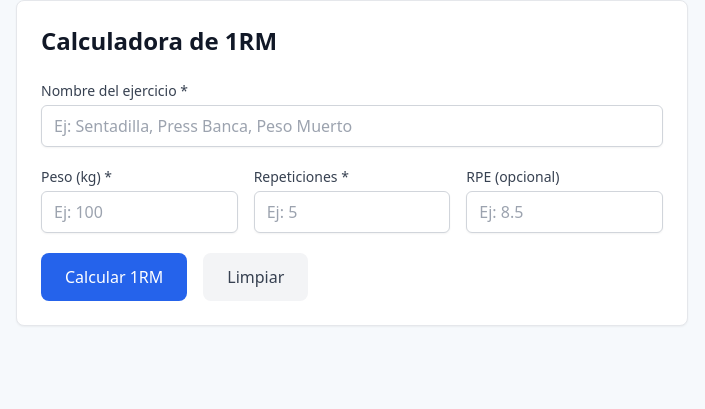
Test: OneRMCalculator › shows error when reps is not provided
Step 1. Type "100" into the number field labelled "Peso (kg) *" → (139, 212), box [41, 191, 238, 233]
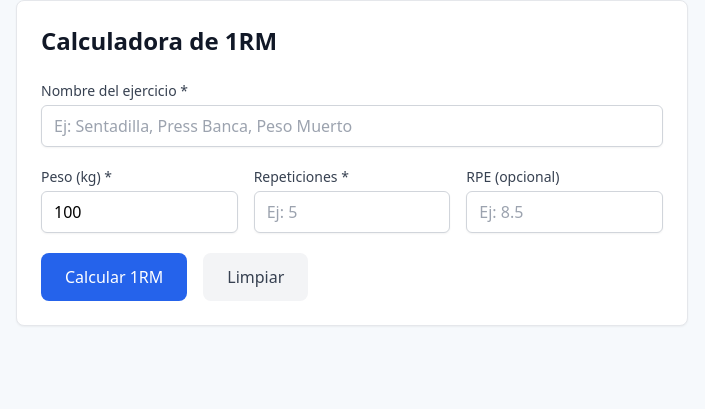
Step 2. Submit the form with test id "onerm-form", box [41, 81, 663, 301]
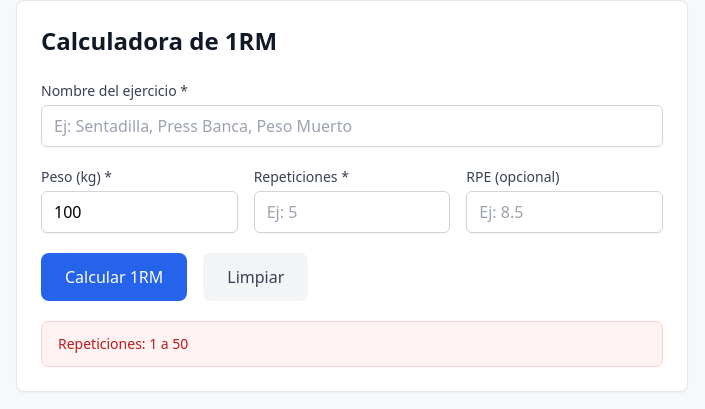
Check: the text "Repeticiones: 1 a 50" is shown, box [41, 321, 663, 367]
